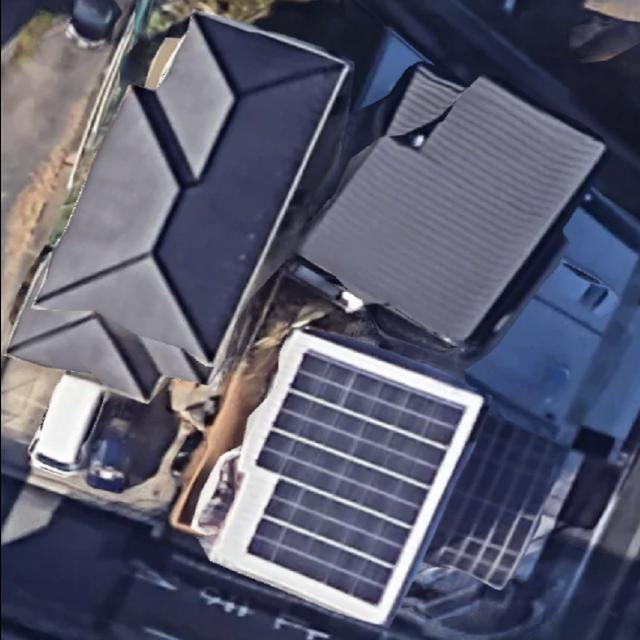Batiment: (9, 12, 350, 400), (298, 65, 603, 355), (208, 330, 482, 624)
